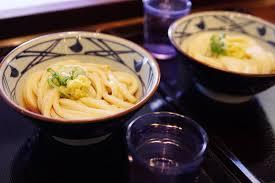bukkake: (1, 33, 160, 118), (171, 12, 275, 76)
